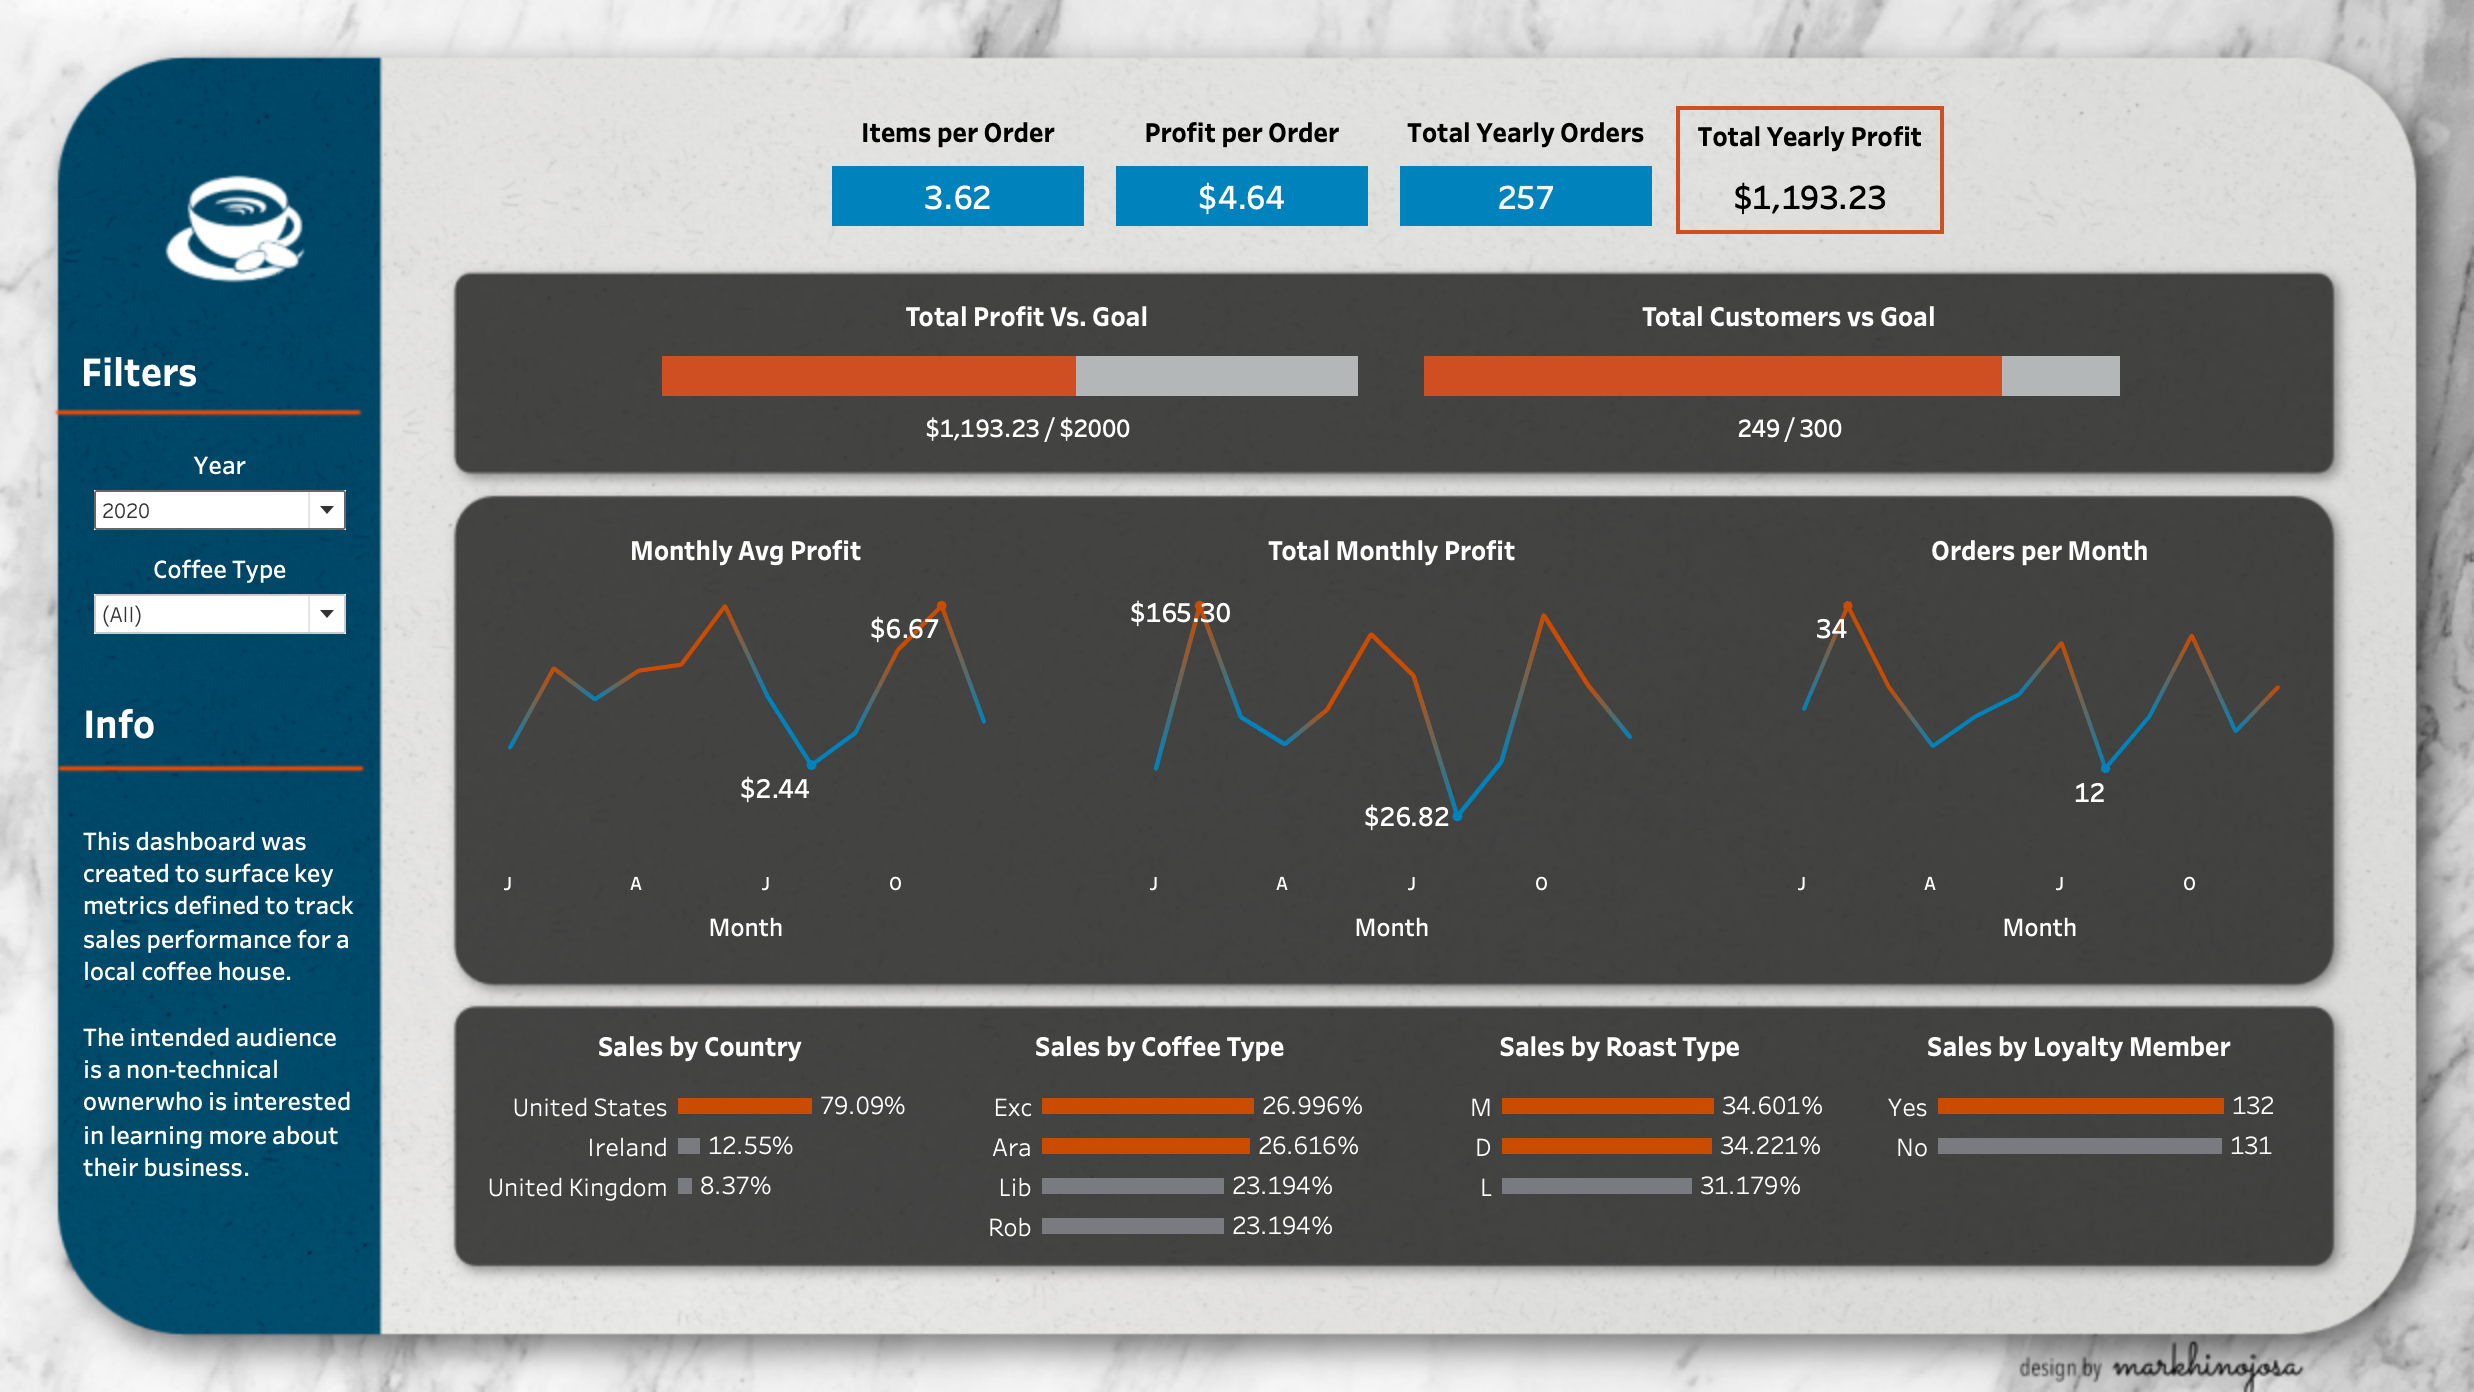

This screenshot's page, from the dashboard's own definition file:
{"tool":"tableau","page":{"name":"Coffee Sales","canvas":[1920,1080],"ordinal":0},"visuals":[{"type":"image","param":"Image/Coffee-House Background 2.jpg","box":[8,8,1904,1064]},{"type":"text","box":[809,115,167,26]},{"type":"text","box":[985,115,167,26]},{"type":"worksheet","title":"Profit per Order","mark":"Automatic","box":[809,141,167,52]},{"type":"worksheet","title":"Quantity per Order","mark":"Automatic","box":[985,141,167,52]},{"type":"worksheet","title":"Total Profit Vs. Goal","mark":"Bar","cols":["Calculation_1383590264445923329","Calculation_1383590264436740096"],"box":[395,232,679.5,61]},{"type":"worksheet","title":"Total Customers vs Goal","mark":"Bar","cols":["Calculation_1725371255267688448","Customer ID (orders)"],"box":[1082.5,232,679.5,61]},{"type":"worksheet","title":"Total Profit Vs. Goal Text","mark":"Automatic","box":[395,293,679.5,59]},{"type":"worksheet","title":"Total Customers vs Goal Text","mark":"Automatic","box":[1082.5,293,679.5,59]},{"type":"filter","title":"Monthly Avg Profit","param":"[federated.0nrocfz15hmwc316u1i1m1h0m39m].[yr:Year:ok]","box":[96,361,210,53]},{"type":"worksheet","title":"Monthly Avg Profit","mark":"Bar","rows":["Calculation_1383590264436740096"],"cols":["Month"],"box":[379,385,425.6,406]},{"type":"blank","box":[804.7,385,51,406]},{"type":"worksheet","title":"Total Monthly Profit","mark":"Bar","rows":["Calculation_1383590264436740096"],"cols":["Month"],"box":[855.7,385,425.6,406]},{"type":"blank","box":[1281.3,385,51,406]},{"type":"worksheet","title":"Orders per Month","mark":"Bar","rows":["Order ID"],"cols":["Month"],"box":[1332.3,385,425.6,406]},{"type":"filter","title":"Total Profit Vs. Goal","param":"[federated.0nrocfz15hmwc316u1i1m1h0m39m].[none:Coffee Type (products):nk]","box":[96,414,210,53]},{"type":"worksheet","title":"Sales by Country","mark":"Automatic","rows":["Country"],"cols":["Order ID"],"box":[384,832,345,129]},{"type":"worksheet","title":"Sales by Coffee Type","mark":"Automatic","rows":["Coffee Type (products)"],"cols":["Order ID"],"box":[729,832,345,129]},{"type":"worksheet","title":"Sales by Roast Type","mark":"Automatic","rows":["Roast Type (products)"],"cols":["Order ID"],"box":[1074,832,345,129]},{"type":"worksheet","title":"Sales by Loyalty Member","mark":"Automatic","rows":["Loyalty Card"],"cols":["Order ID"],"box":[1419,832,344,129]}]}

Visuals, with their boxes in screenshot pixels (x1, y1, x2, y2), scaled from the page's 1920x1080 canvas onto the 2474x1392 screenshot:
image: 10/10/2464/1382
text: 1042/148/1258/182
text: 1269/148/1484/182
"Profit per Order" worksheet: 1042/182/1258/249
"Quantity per Order" worksheet: 1269/182/1484/249
"Total Profit Vs. Goal" worksheet (Bar marks): 509/299/1385/378
"Total Customers vs Goal" worksheet (Bar marks): 1395/299/2270/378
"Total Profit Vs. Goal Text" worksheet: 509/378/1385/454
"Total Customers vs Goal Text" worksheet: 1395/378/2270/454
"Monthly Avg Profit" filter: 124/465/394/534
"Monthly Avg Profit" worksheet (Bar marks): 488/496/1037/1020
blank: 1037/496/1103/1020
"Total Monthly Profit" worksheet (Bar marks): 1103/496/1651/1020
blank: 1651/496/1717/1020
"Orders per Month" worksheet (Bar marks): 1717/496/2265/1020
"Total Profit Vs. Goal" filter: 124/534/394/602
"Sales by Country" worksheet: 495/1072/939/1239
"Sales by Coffee Type" worksheet: 939/1072/1384/1239
"Sales by Roast Type" worksheet: 1384/1072/1828/1239
"Sales by Loyalty Member" worksheet: 1828/1072/2272/1239
